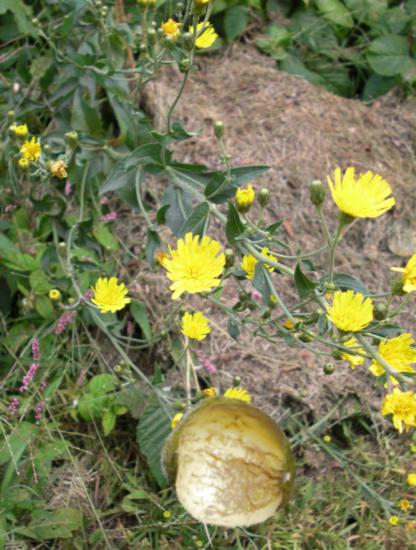Apple: (167, 401, 297, 531)
Guava: (162, 394, 303, 535)
